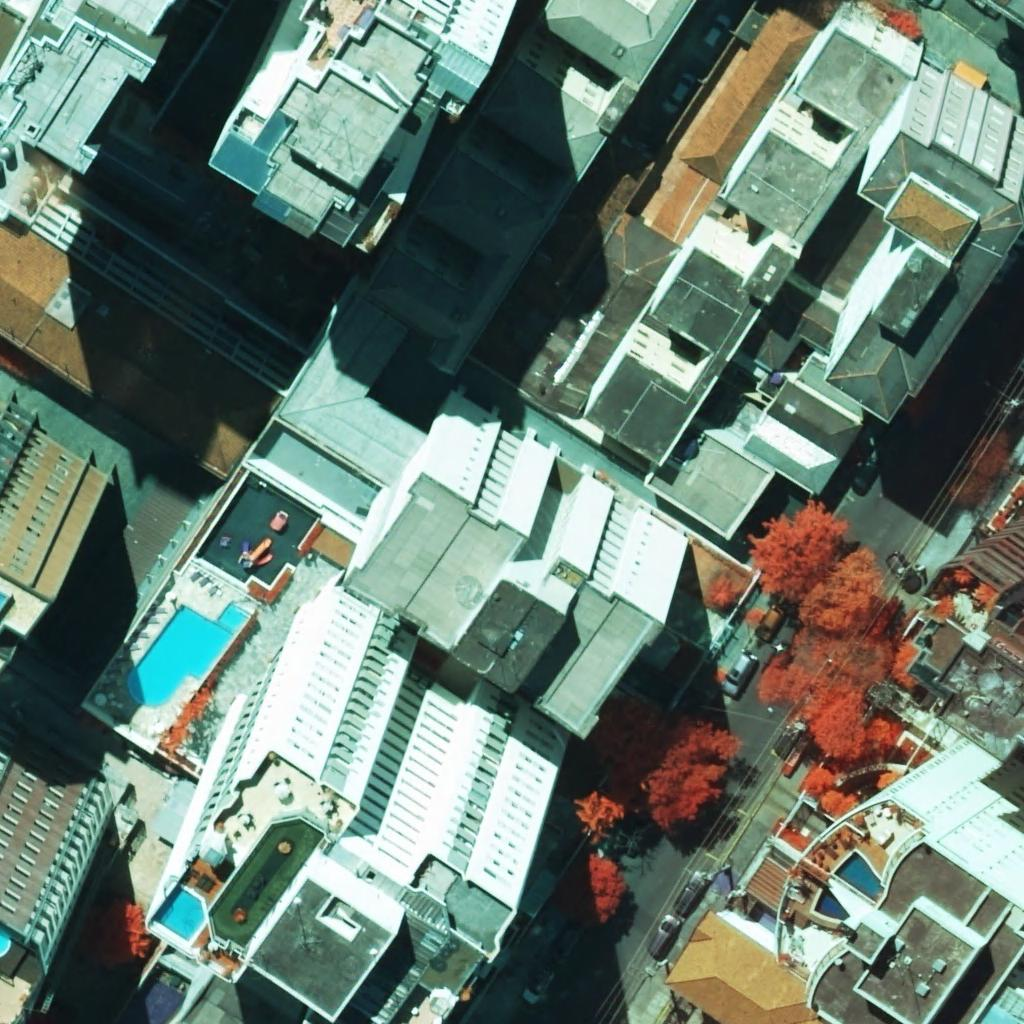pool: (128, 603, 251, 706), (154, 886, 204, 941), (834, 852, 884, 903), (815, 887, 850, 921), (0, 930, 8, 954)
